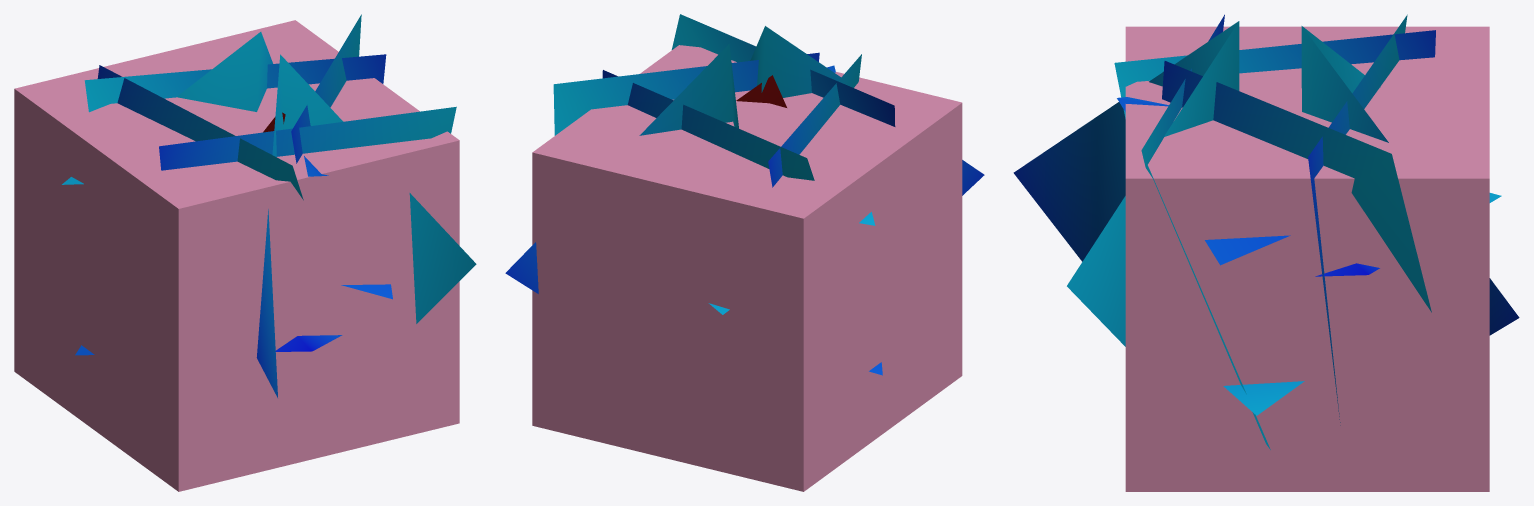
Rendered from tree_beech_bush_a.dae.
3 renders of one model, left to right at view 1: azimuth 30°, elevation 25°; view 2: azimuth 150°, elevation 25°; view 3: azimuth 270°, elevation 25°, orthographic. The views are drawn at different scales.
Parts seen in each view (by area): view 1: Untitled, tree_oak_bush_a130, tree_oak_bush_a380; view 2: Untitled, tree_oak_bush_a130; view 3: Untitled, tree_oak_bush_a130, tree_oak_bush_a380.
Boxes of the visible parts, x1,y1,x2,y2 form: Untitled: (14, 20, 459, 491); tree_oak_bush_a130: (84, 14, 476, 397); tree_oak_bush_a380: (62, 156, 392, 355); Untitled: (532, 45, 962, 491); tree_oak_bush_a130: (505, 14, 984, 293); Untitled: (1125, 26, 1489, 491); tree_oak_bush_a130: (1013, 14, 1519, 449); tree_oak_bush_a380: (1117, 97, 1501, 415).
Bounding box in the file's own units: 1.3 × 1.54 × 1.45.
